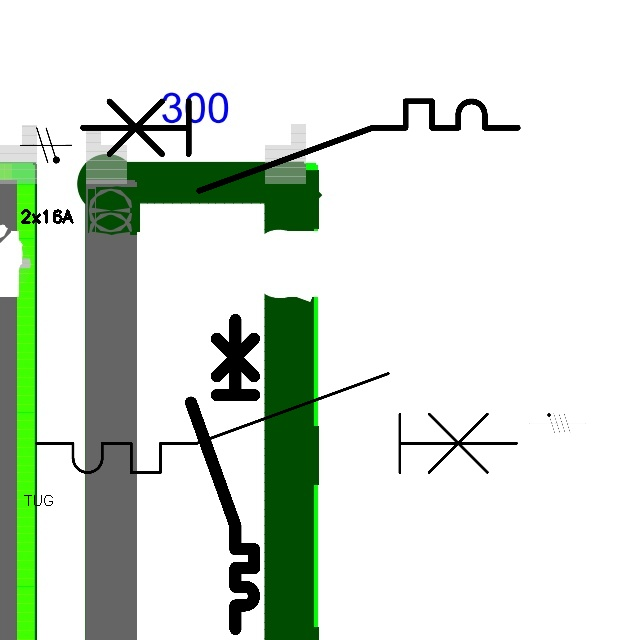interruptor_termomagnetico: (24, 361, 529, 485), (71, 90, 528, 202), (183, 312, 262, 637)
